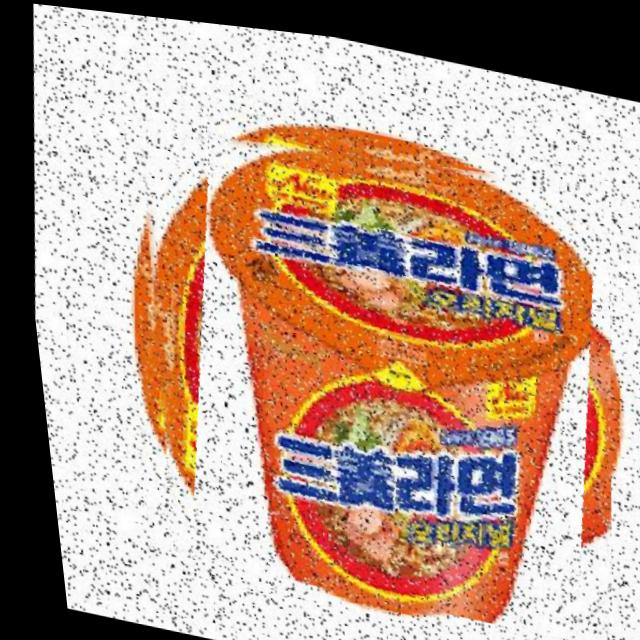Miscellaneous: (87, 81, 640, 640)
